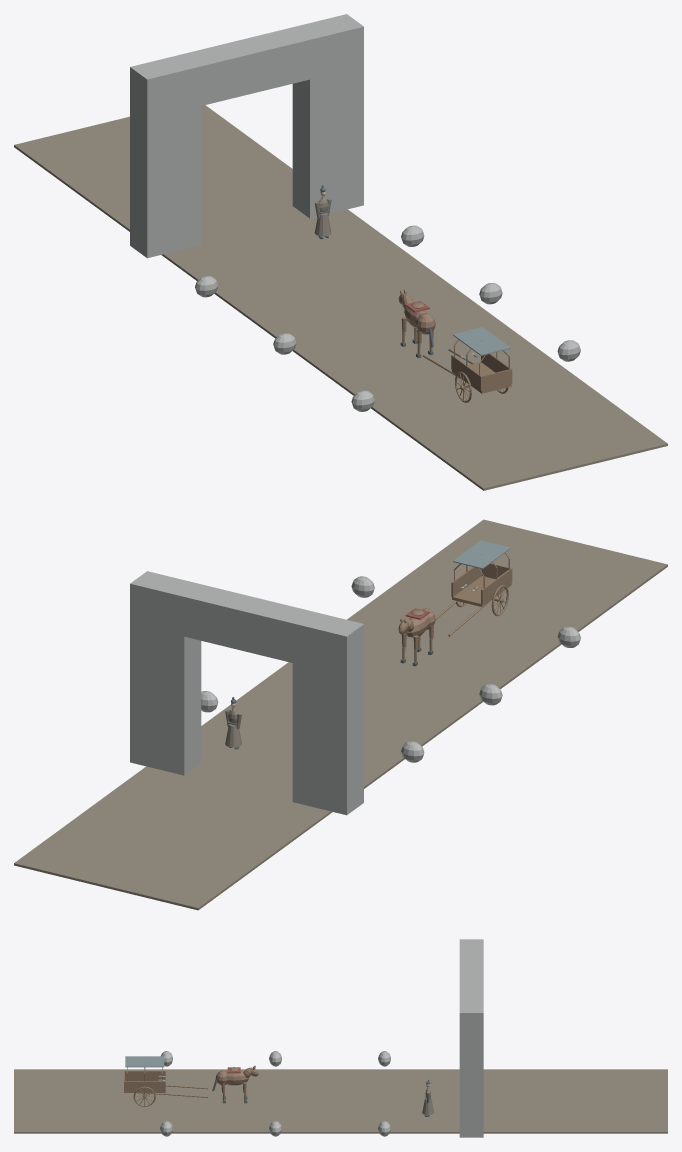
The picture shows the model from 3 angles, top to bottom: view 1: azimuth 30°, elevation 25°; view 2: azimuth 150°, elevation 25°; view 3: azimuth 270°, elevation 25°; orthographic projection. The views are drawn at different scales.
Parts seen in each view (by area): view 1: roadbed (×10), left_pier, lintel, right_pier, canvas_roof; view 2: roadbed (×10), left_pier, right_pier, lintel, canvas_roof, bed; view 3: roadbed (×10), right_pier, lintel, canvas_roof, right_rail, left_rail.
Boxes of the visible parts, bbox=[...] form: roadbed (×10): bbox=[14, 105, 667, 490]; left_pier: bbox=[130, 75, 201, 258]; lintel: bbox=[130, 14, 363, 119]; right_pier: bbox=[292, 35, 363, 218]; canvas_roof: bbox=[453, 327, 510, 355]; roadbed (×10): bbox=[14, 519, 667, 910]; left_pier: bbox=[292, 632, 363, 815]; right_pier: bbox=[130, 592, 201, 775]; lintel: bbox=[130, 571, 363, 675]; canvas_roof: bbox=[453, 540, 510, 569]; bed: bbox=[452, 576, 511, 606]; roadbed (×10): bbox=[14, 1069, 667, 1133]; right_pier: bbox=[459, 1019, 483, 1137]; lintel: bbox=[459, 939, 483, 1040]; canvas_roof: bbox=[125, 1056, 164, 1067]; right_rail: bbox=[124, 1081, 165, 1091]; left_rail: bbox=[124, 1071, 165, 1080].
Size of the model in its own units: 8.4 by 6.38 by 30.
